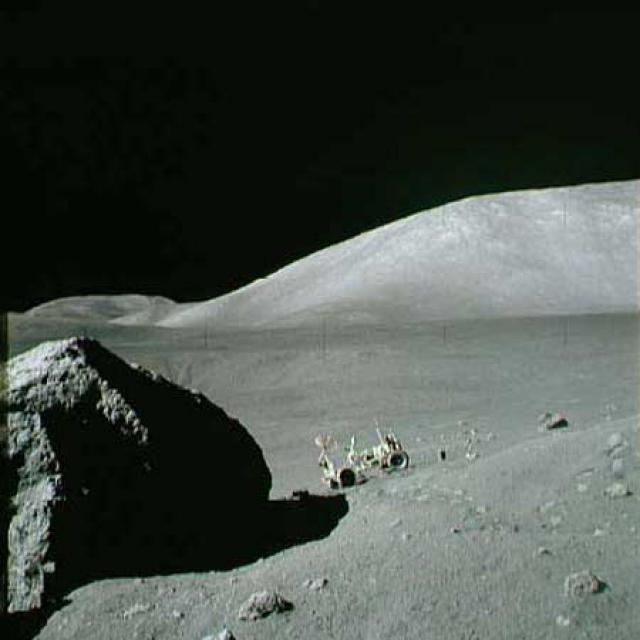artifact: (304, 418, 412, 492)
rock: (2, 331, 274, 623), (234, 585, 294, 623), (559, 568, 610, 600), (530, 407, 568, 435), (599, 477, 633, 502), (295, 570, 327, 596)
